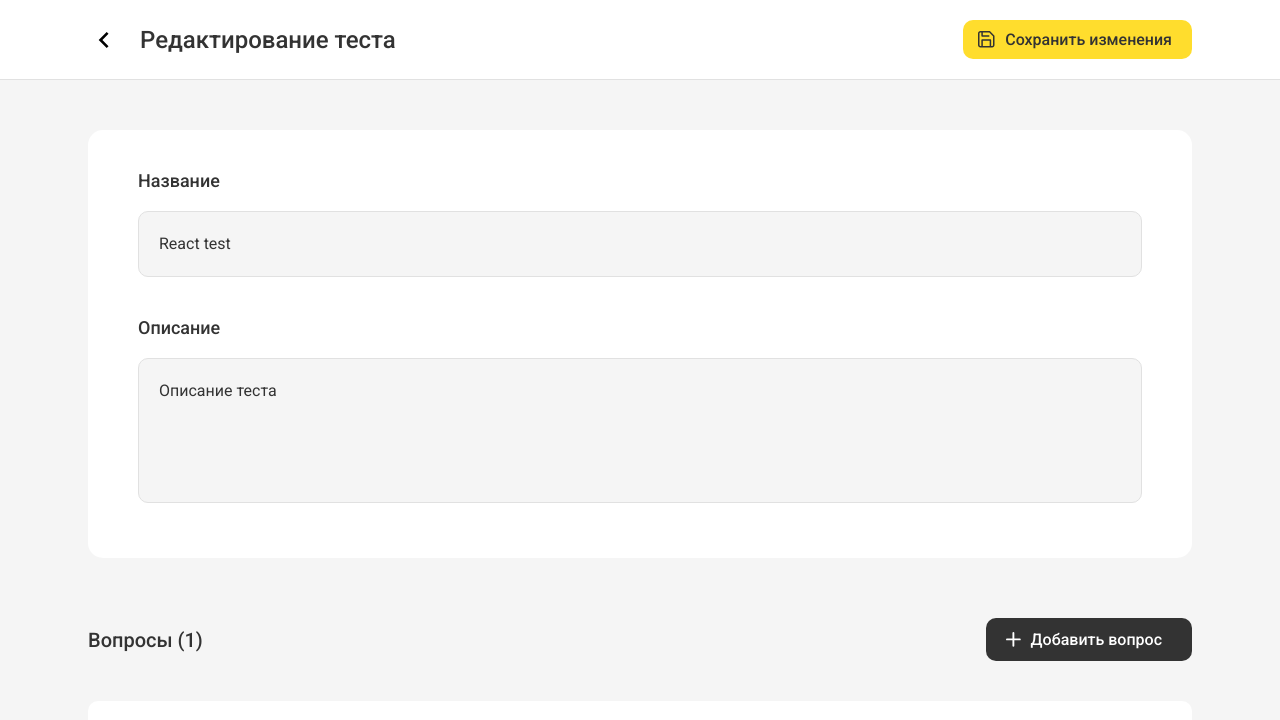
Scenario: EditTestPage › editing questions › adds a new empty question
Check: the field showing "React test" is shown, box left=138, top=211, right=1142, bottom=277
Click the button "Добавить вопрос": (1089, 640) left=986, top=618, right=1192, bottom=661
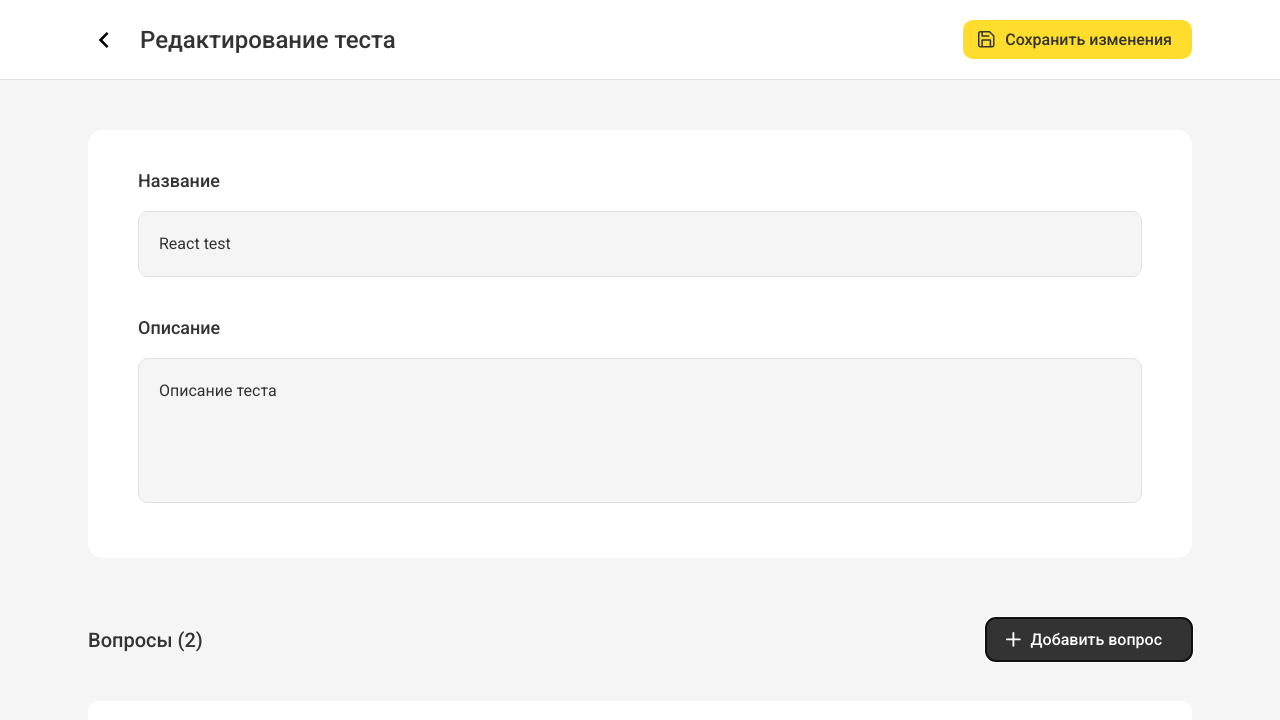
Check: the heading "Вопросы (2)" is shown, box left=88, top=628, right=203, bottom=652
